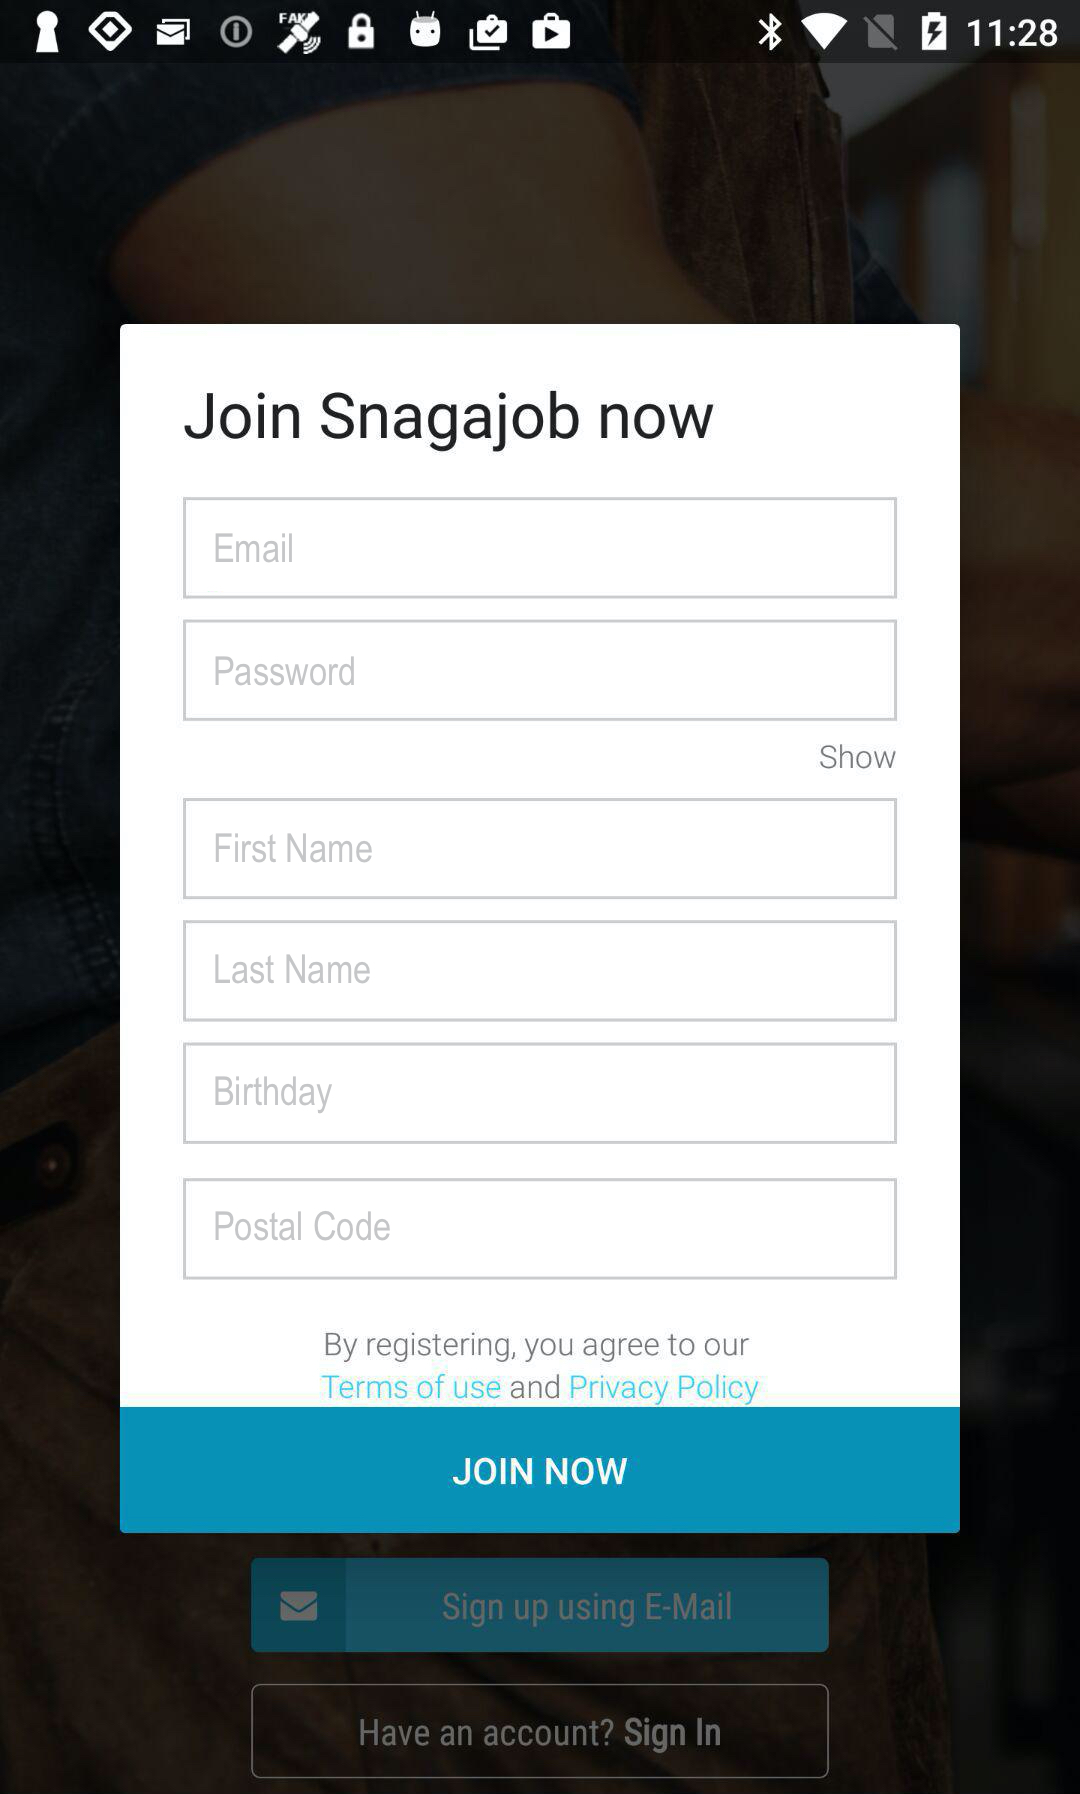EditText: (183, 1178, 898, 1281), (183, 1042, 898, 1146), (183, 920, 898, 1023), (183, 619, 898, 721), (183, 497, 898, 600), (183, 798, 898, 900)
Modal: (120, 324, 961, 1534)
Text: (184, 390, 715, 454), (320, 1331, 760, 1406), (215, 1210, 391, 1242), (215, 953, 372, 985), (217, 833, 373, 864), (215, 1076, 333, 1115), (215, 657, 355, 687), (217, 533, 293, 564), (819, 743, 897, 770)
TextButton: (120, 1407, 961, 1534), (250, 1556, 830, 1653), (250, 1683, 830, 1779)
UpperTaskBar: (1, 1, 1080, 64)
